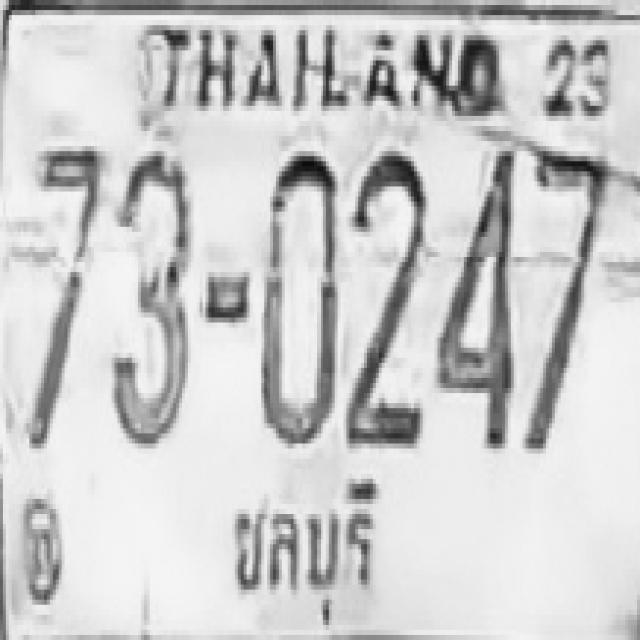0: (258, 146, 338, 444)
2: (346, 144, 426, 446)
3: (108, 146, 190, 444)
4: (436, 144, 515, 446)
7: (524, 144, 609, 451), (25, 141, 104, 444)
Chonburi: (222, 461, 386, 635)
